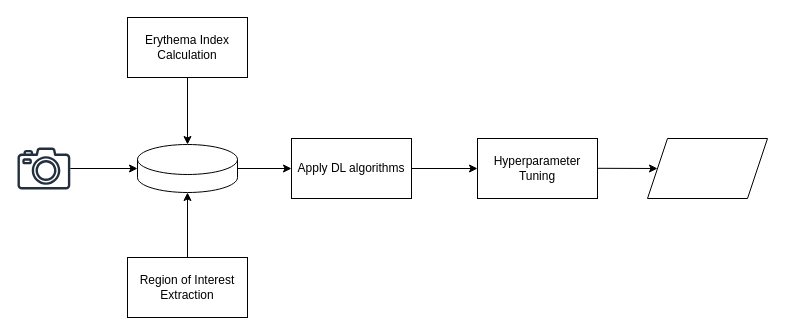
The diagram is 785 pixels wide and 335 high, and some of its shapes have lost their labels. Here are the shapes that lost their labels. From the top down, the centre of each, then its label:
the point at 187,168: Preprocessing
the point at 707,168: Hemoglobin Level Range
